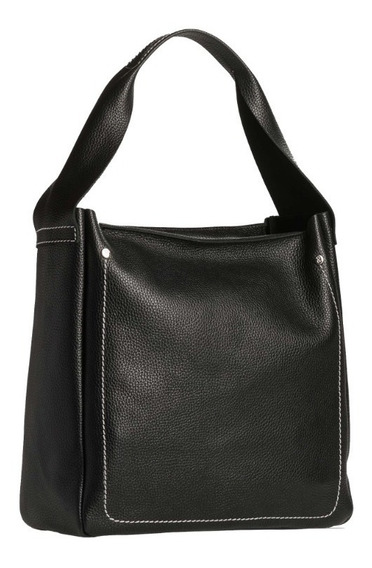cartera: (18, 26, 355, 538)
